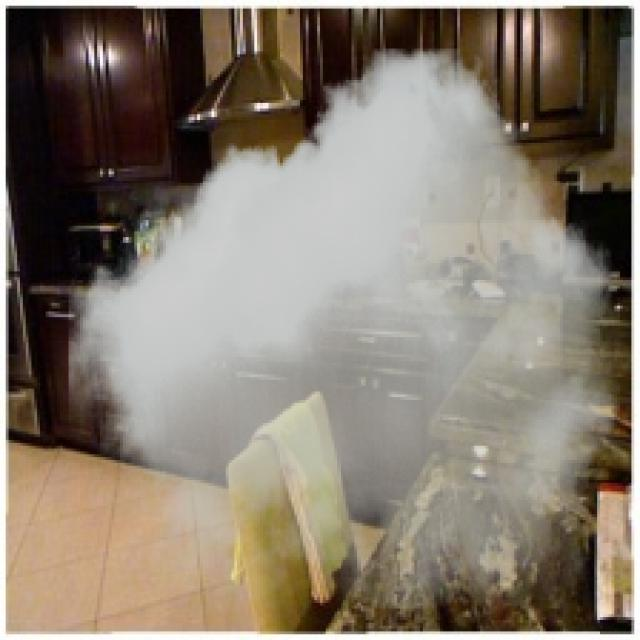smoke: (69, 49, 620, 608)
